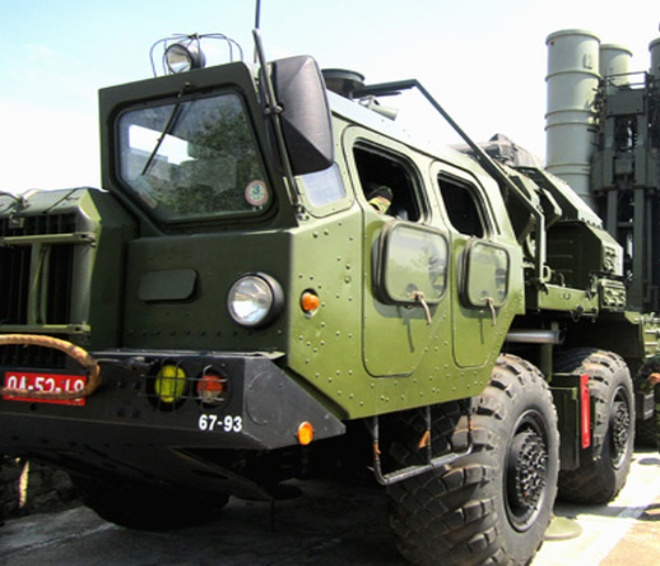plate: (5, 369, 90, 411)
